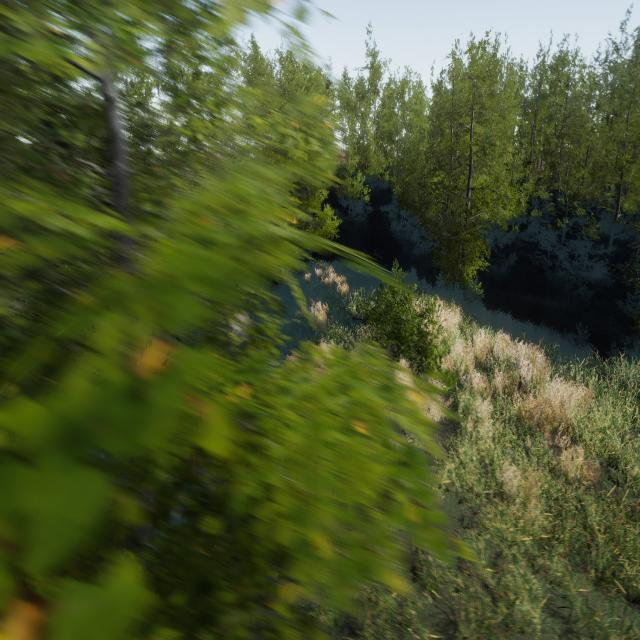Human: (305, 292, 319, 329)
